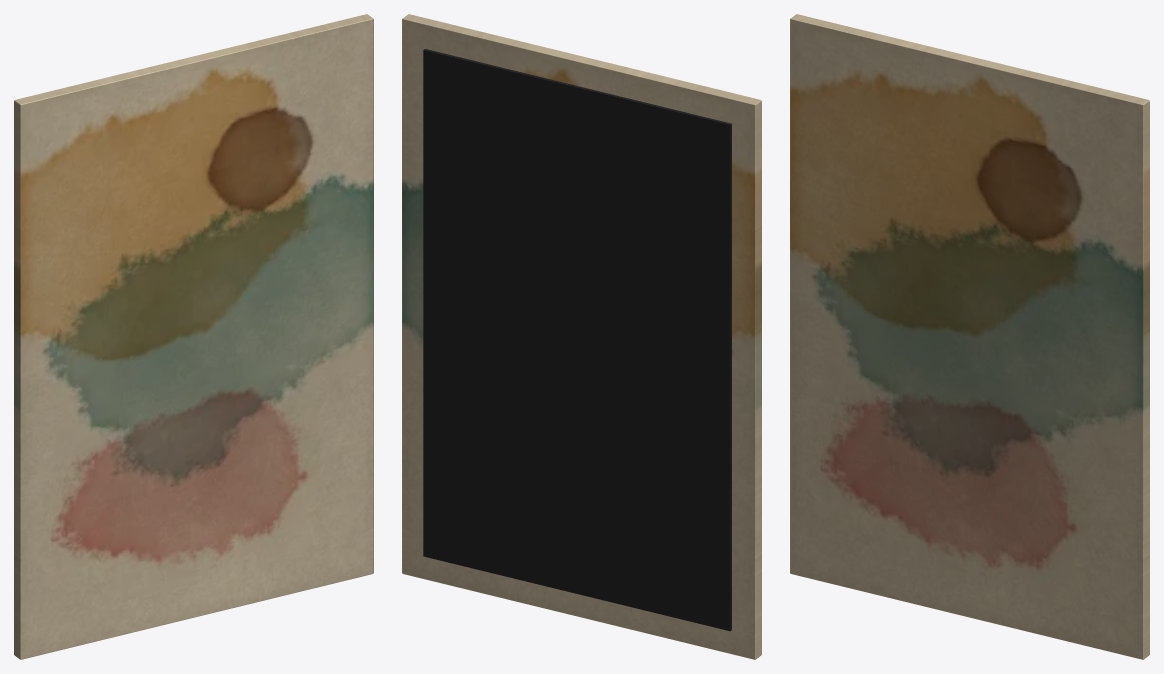
File: art_stain_tall.gltf
3 renders of one model, left to right at view 1: azimuth 30°, elevation 25°; view 2: azimuth 150°, elevation 25°; view 3: azimuth 330°, elevation 25°, orthographic.
Visible parts, largest first — view 1: Art_StainTall_Art; view 2: Art_StainTall_Spacer, Art_StainTall_Art; view 3: Art_StainTall_Art.
Boxes of the visible parts, bbox=[...] form: Art_StainTall_Art: bbox=[14, 14, 373, 659]; Art_StainTall_Spacer: bbox=[423, 49, 731, 631]; Art_StainTall_Art: bbox=[402, 14, 761, 659]; Art_StainTall_Art: bbox=[790, 14, 1149, 659].
Size of the model in its own units: 1.2 by 1.8 by 0.05.
Materials: 2 (1 with a texture image).
